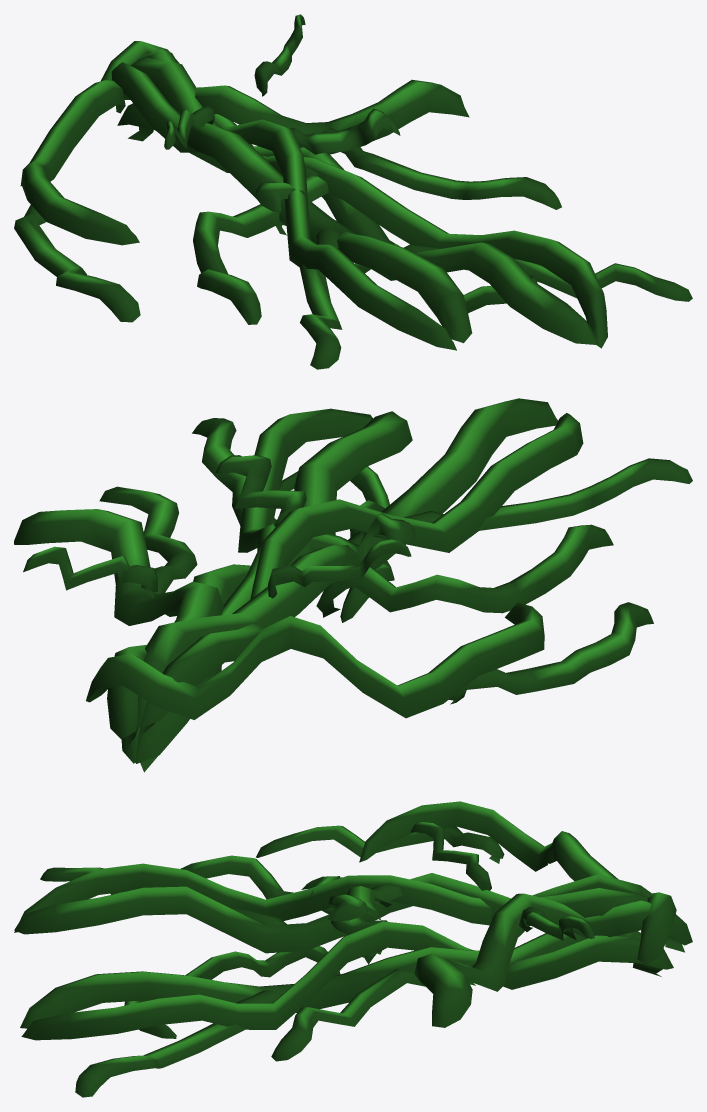
The model's file is vine6.fbx.
The picture shows the model from 3 angles, top to bottom: view 1: azimuth 30°, elevation 25°; view 2: azimuth 150°, elevation 25°; view 3: azimuth 270°, elevation 25°; orthographic projection. The views are drawn at different scales.
Visible parts, largest first — view 1: pCube165; view 2: pCube165; view 3: pCube165.
Part boxes in pixels (x1,y1,x2,y2): pCube165: (14, 14, 692, 369); pCube165: (14, 398, 692, 772); pCube165: (14, 801, 692, 1097).
Size of the model in its own units: 109 by 26.7 by 135.
